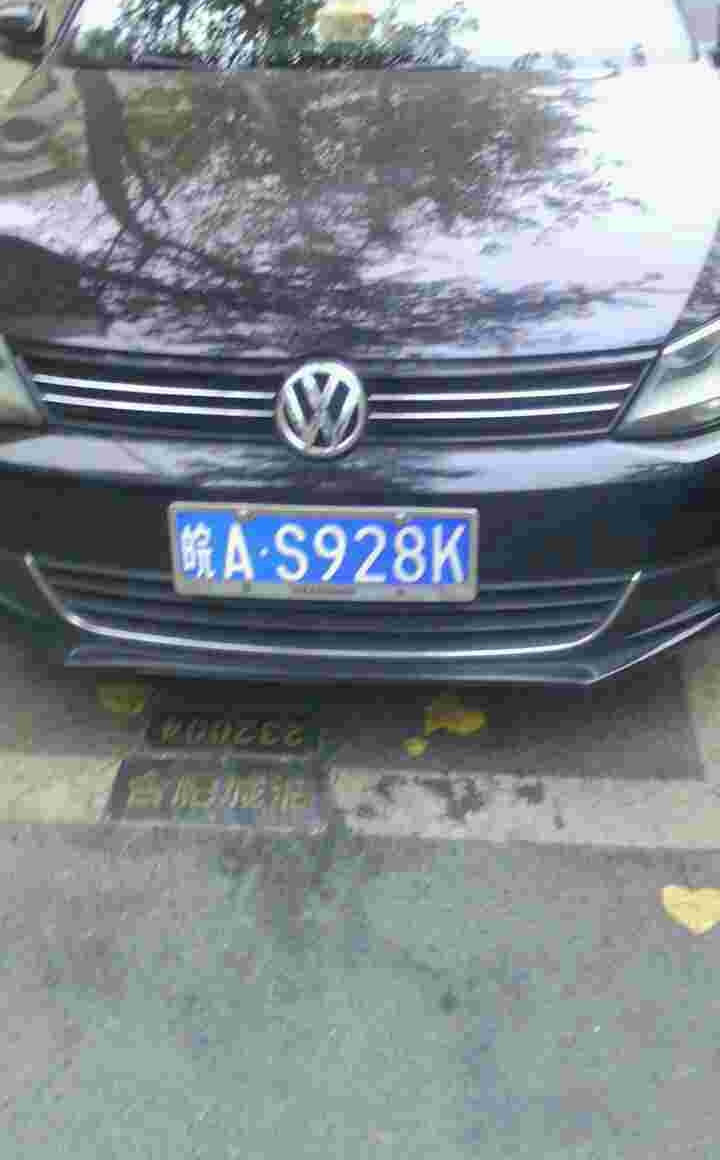car: (168, 502, 470, 597)
